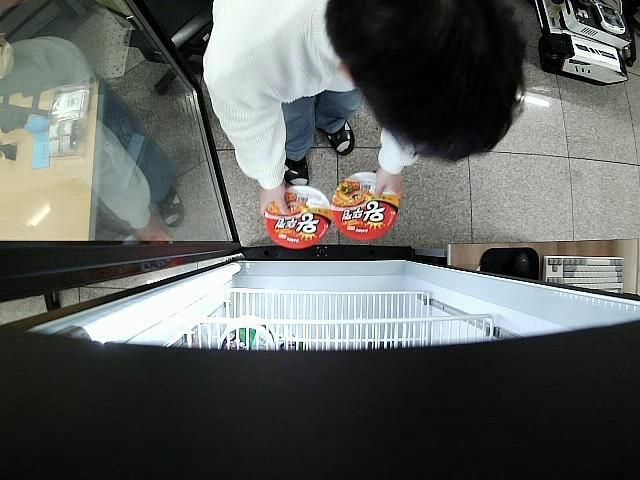10_wangTtukkeong: (332, 172, 399, 240), (265, 186, 330, 250)
